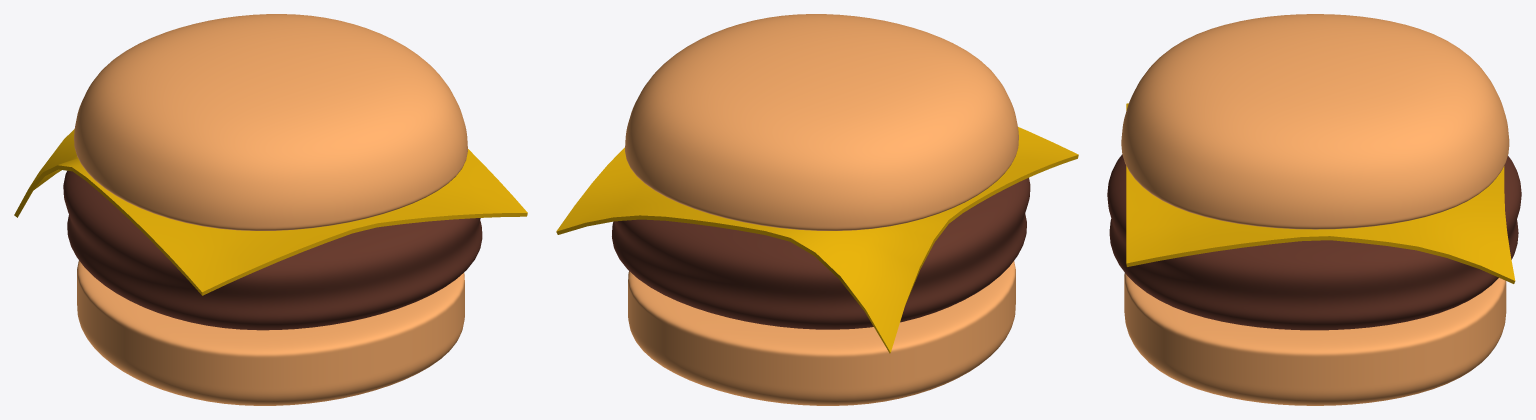
Rendered from hamburger.glb.
3 renders of one model, left to right at view 1: azimuth 30°, elevation 25°; view 2: azimuth 150°, elevation 25°; view 3: azimuth 270°, elevation 25°, orthographic.
Visible parts, largest first — view 1: Cube.003, Cube.002, Cube.001, Plane; view 2: Cube.003, Cube.001, Cube.002, Plane; view 3: Cube.003, Cube.001, Cube.002, Plane.
Boxes of the visible parts, left/top/right/bottom form: Cube.003: left=74, top=14, right=467, bottom=230; Cube.002: left=63, top=170, right=482, bottom=330; Cube.001: left=77, top=260, right=464, bottom=405; Plane: left=14, top=129, right=527, bottom=295; Cube.003: left=625, top=14, right=1018, bottom=230; Cube.001: left=628, top=261, right=1015, bottom=405; Cube.002: left=612, top=178, right=1030, bottom=329; Plane: left=556, top=127, right=1078, bottom=353; Cube.003: left=1121, top=14, right=1509, bottom=229; Cube.001: left=1124, top=273, right=1506, bottom=405; Cube.002: left=1107, top=154, right=1521, bottom=330; Plane: left=1126, top=103, right=1515, bottom=283.
Size of the model in its own units: 11.2 by 8.63 by 11.19.
